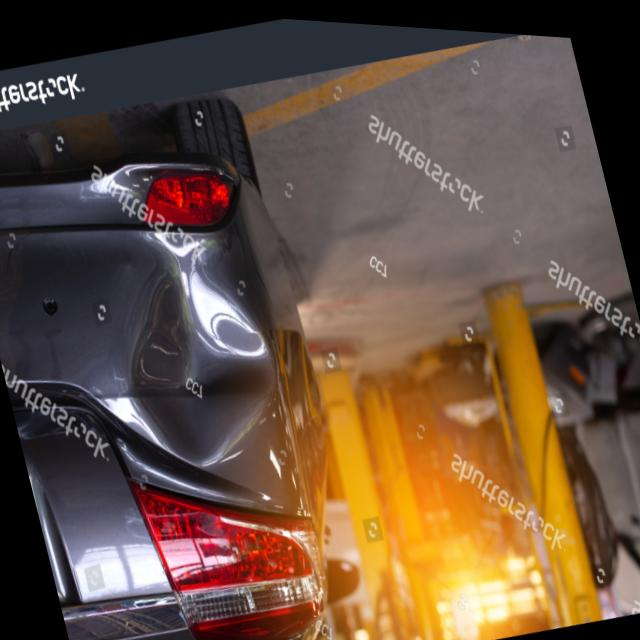Dent: (82, 218, 309, 498)
